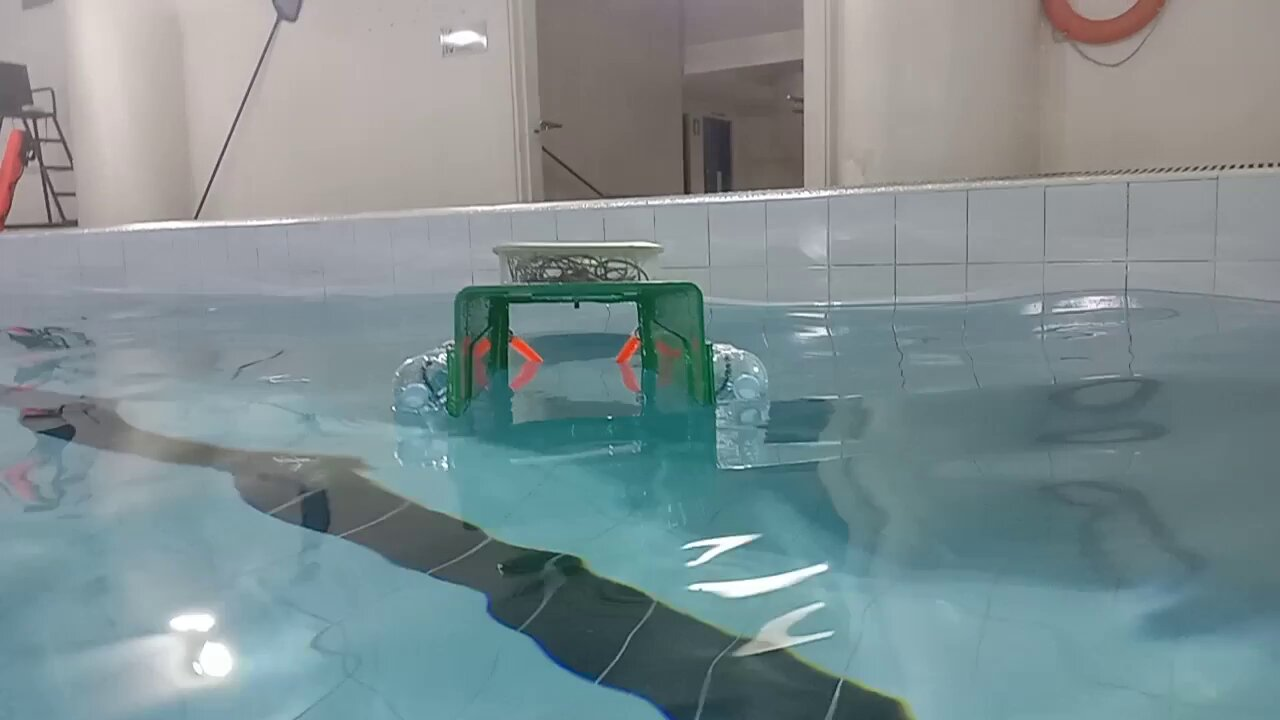drone: (389, 234, 770, 427)
